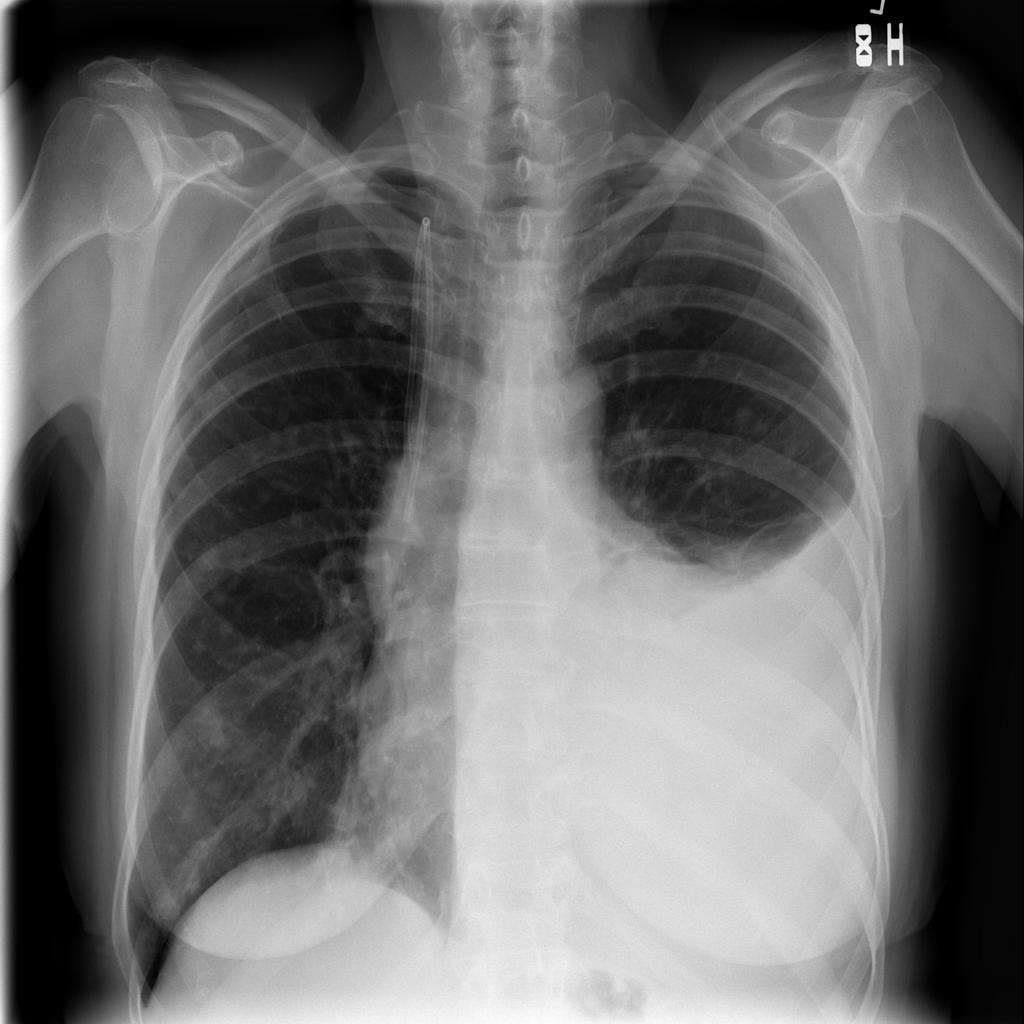nodule: (181, 681, 248, 766), (175, 522, 247, 599), (714, 386, 784, 458), (203, 318, 276, 386), (188, 766, 238, 818)
